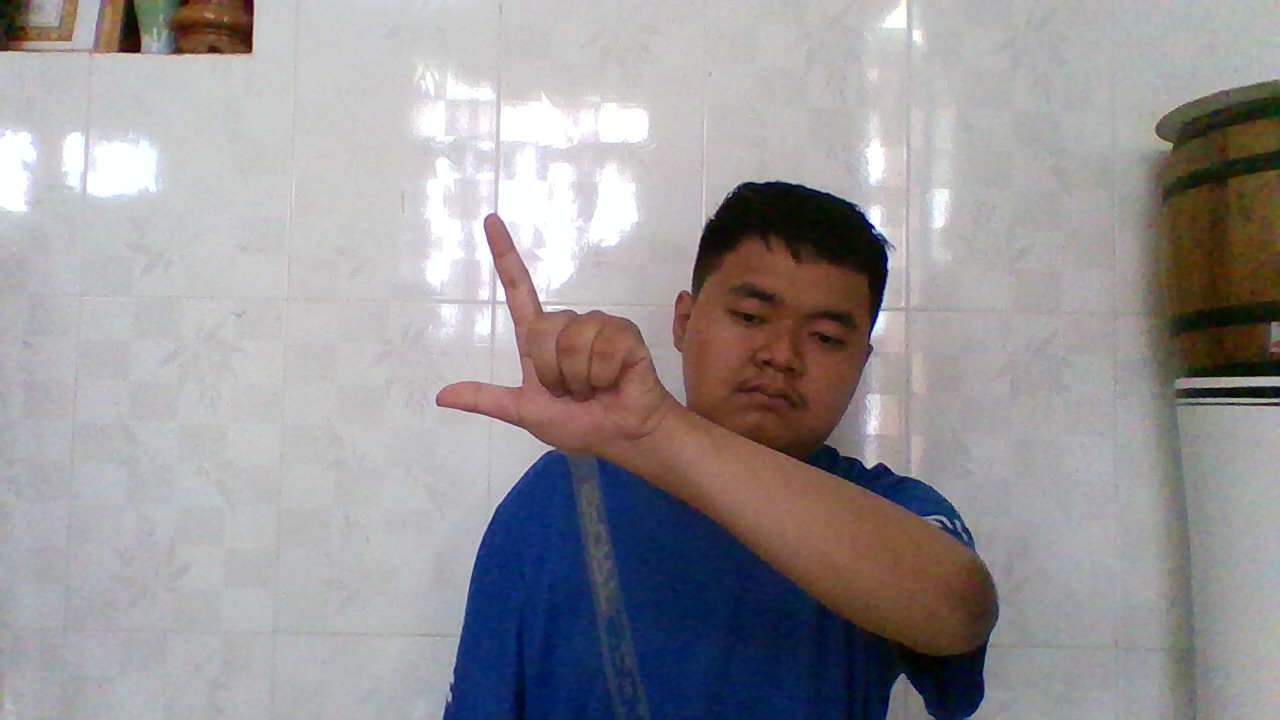L: (430, 209, 640, 456)
